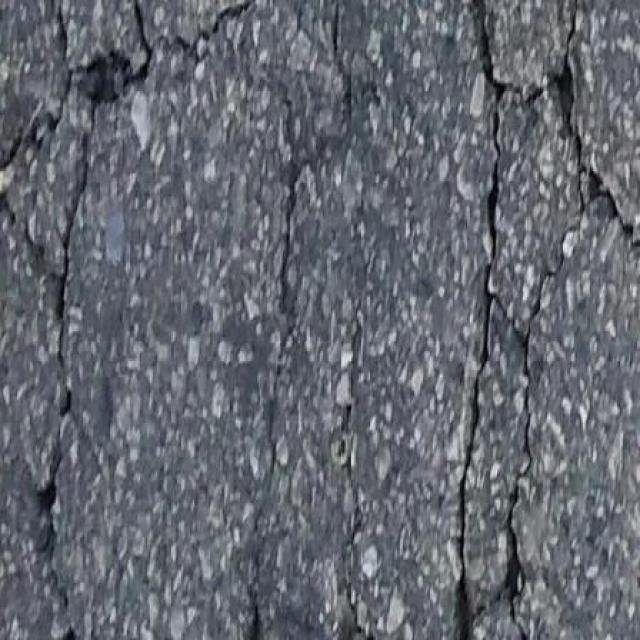Crack: (28, 0, 154, 384), (472, 0, 640, 252), (275, 0, 364, 439), (455, 158, 534, 640), (181, 1, 278, 63), (342, 326, 360, 484), (530, 271, 563, 334), (46, 472, 59, 541), (350, 581, 365, 639), (250, 600, 270, 639), (373, 632, 389, 640)
